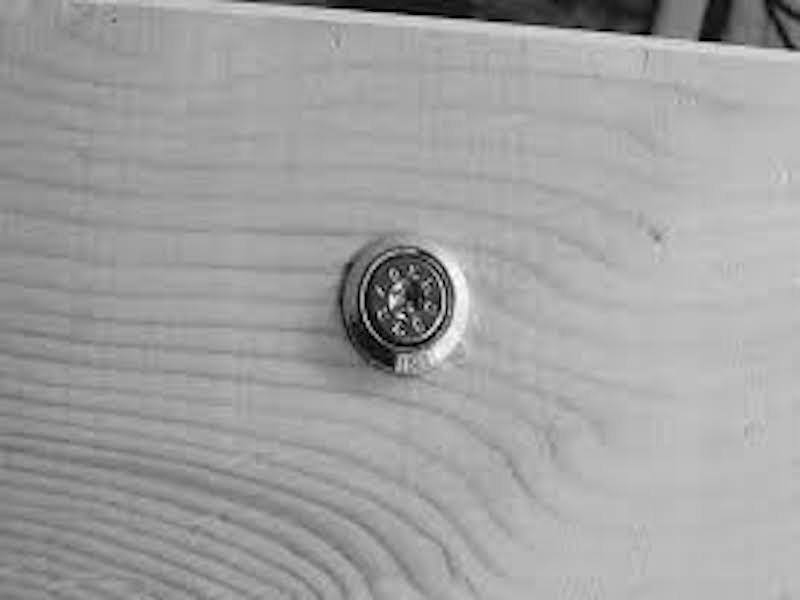screw: (334, 231, 474, 382)
